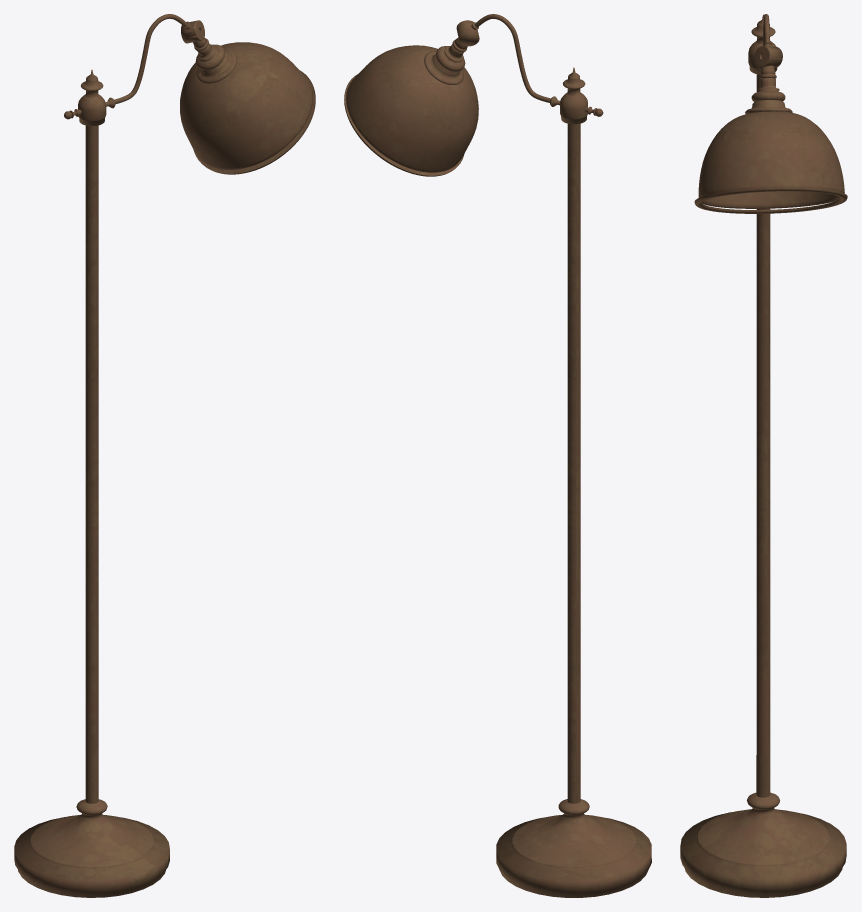
Rendered from bradley-task-floor-lamp.glb.
The picture shows the model from 3 angles, left to right: view 1: azimuth 30°, elevation 25°; view 2: azimuth 150°, elevation 25°; view 3: azimuth 270°, elevation 25°; orthographic projection. The views are drawn at different scales.
Parts seen in each view (by area): view 1: bradley-task-floor-lamp; view 2: bradley-task-floor-lamp; view 3: bradley-task-floor-lamp.
Part boxes in pixels (x1=…): bradley-task-floor-lamp: x1=14, y1=14, x2=315, y2=897; bradley-task-floor-lamp: x1=344, y1=14, x2=651, y2=897; bradley-task-floor-lamp: x1=680, y1=14, x2=847, y2=897.
Bounding box in the file's own units: 0.493 × 1.39 × 0.2371.
2 materials, 2 textured.
